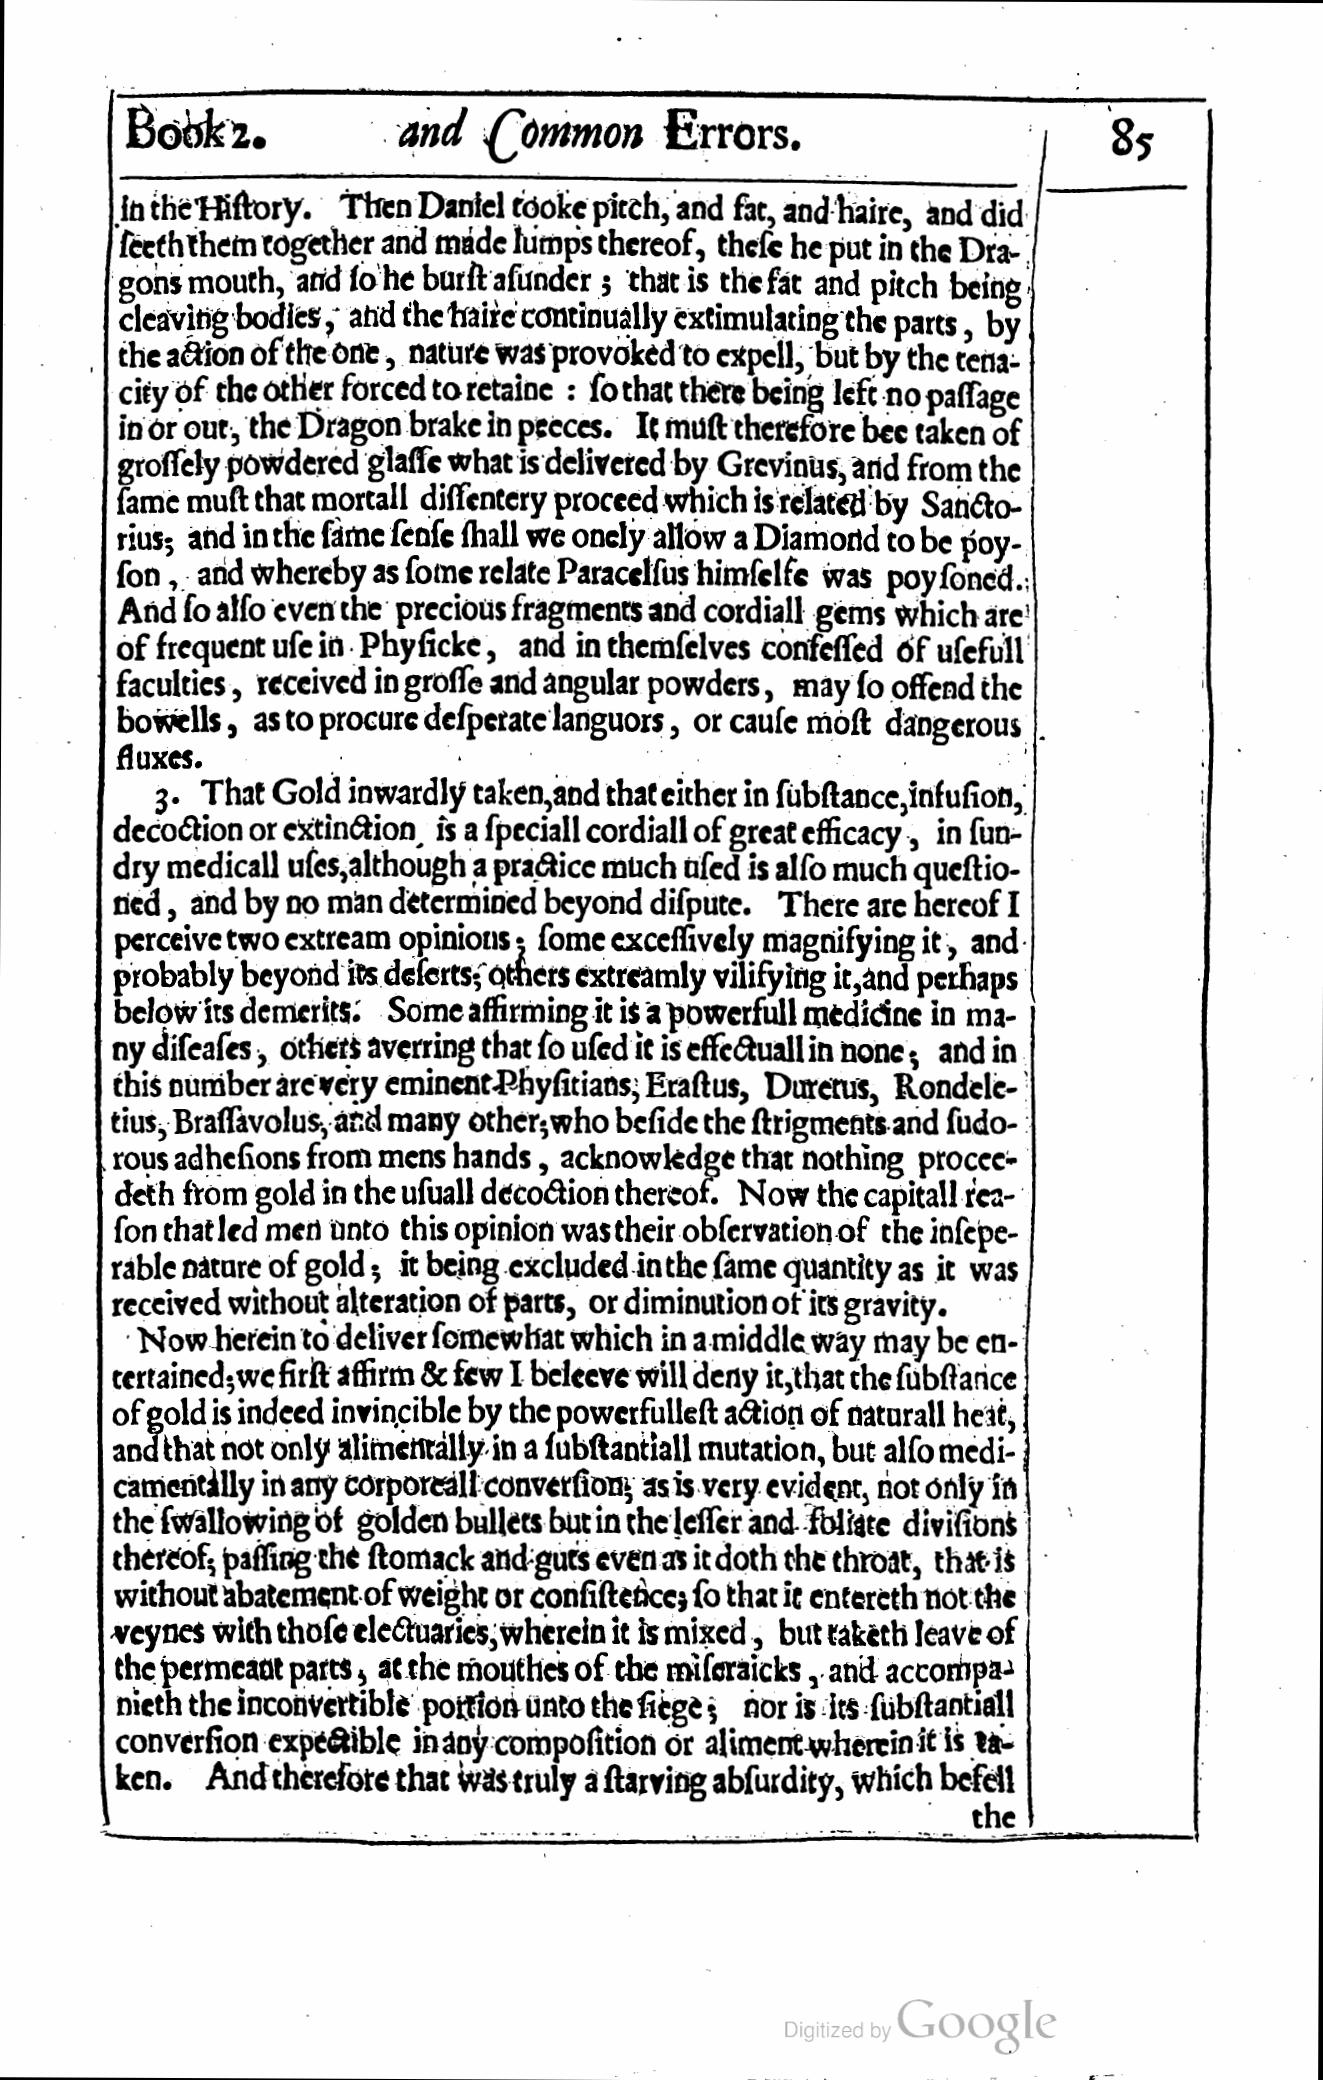bottom_p: (111, 185, 1027, 770)
catchword: (970, 1800, 1021, 1828)
full_p: (109, 773, 1024, 1322)
header: (124, 100, 808, 168)
page_num: (1106, 111, 1162, 165)
top_p: (111, 1317, 1021, 1803)
